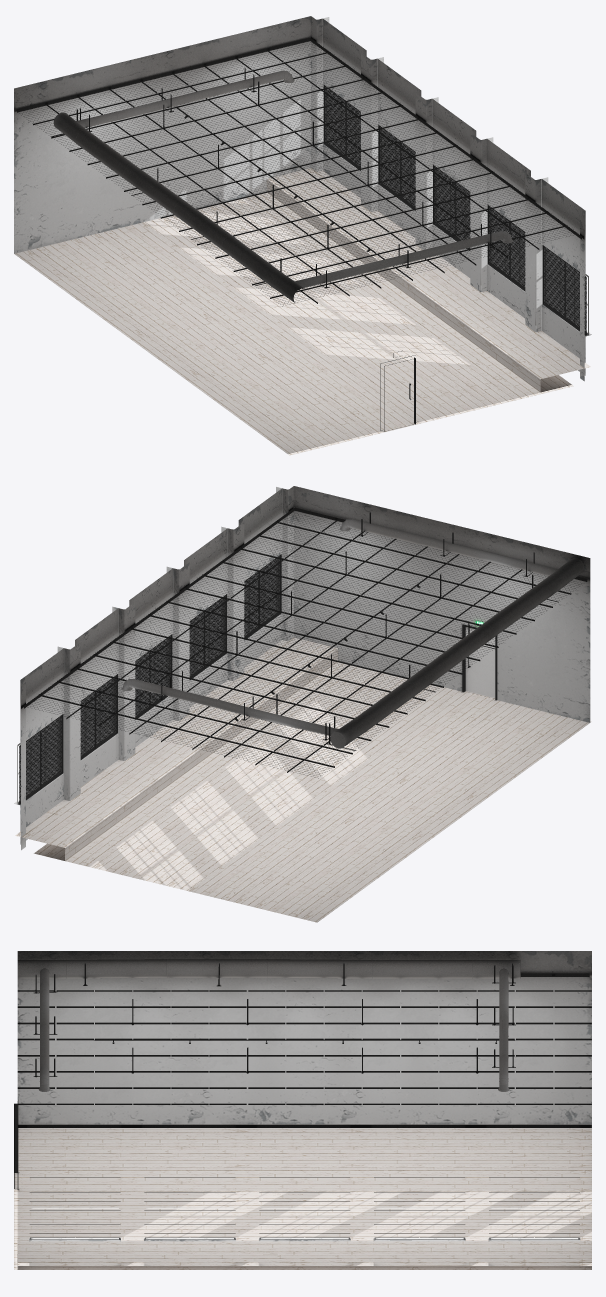
File: warehouse.glb
3 renders of one model, top to bottom at view 1: azimuth 30°, elevation 25°; view 2: azimuth 150°, elevation 25°; view 3: azimuth 270°, elevation 25°, orthographic. The views are drawn at different scales.
Visible parts, largest first — view 1: RoomBaked, PropsBaked; view 2: RoomBaked, PropsBaked; view 3: RoomBaked, PropsBaked.
Part boxes in pixels (box(x1,y1,x2,y2)): RoomBaked: box(14, 16, 591, 455); PropsBaked: box(17, 38, 589, 431); RoomBaked: box(14, 486, 591, 922); PropsBaked: box(15, 507, 587, 804); RoomBaked: box(14, 951, 591, 1269); PropsBaked: box(14, 959, 591, 1239).
Bounding box in the file's own units: 9.86 × 5.02 × 15.1.
2 materials, 2 textured.
